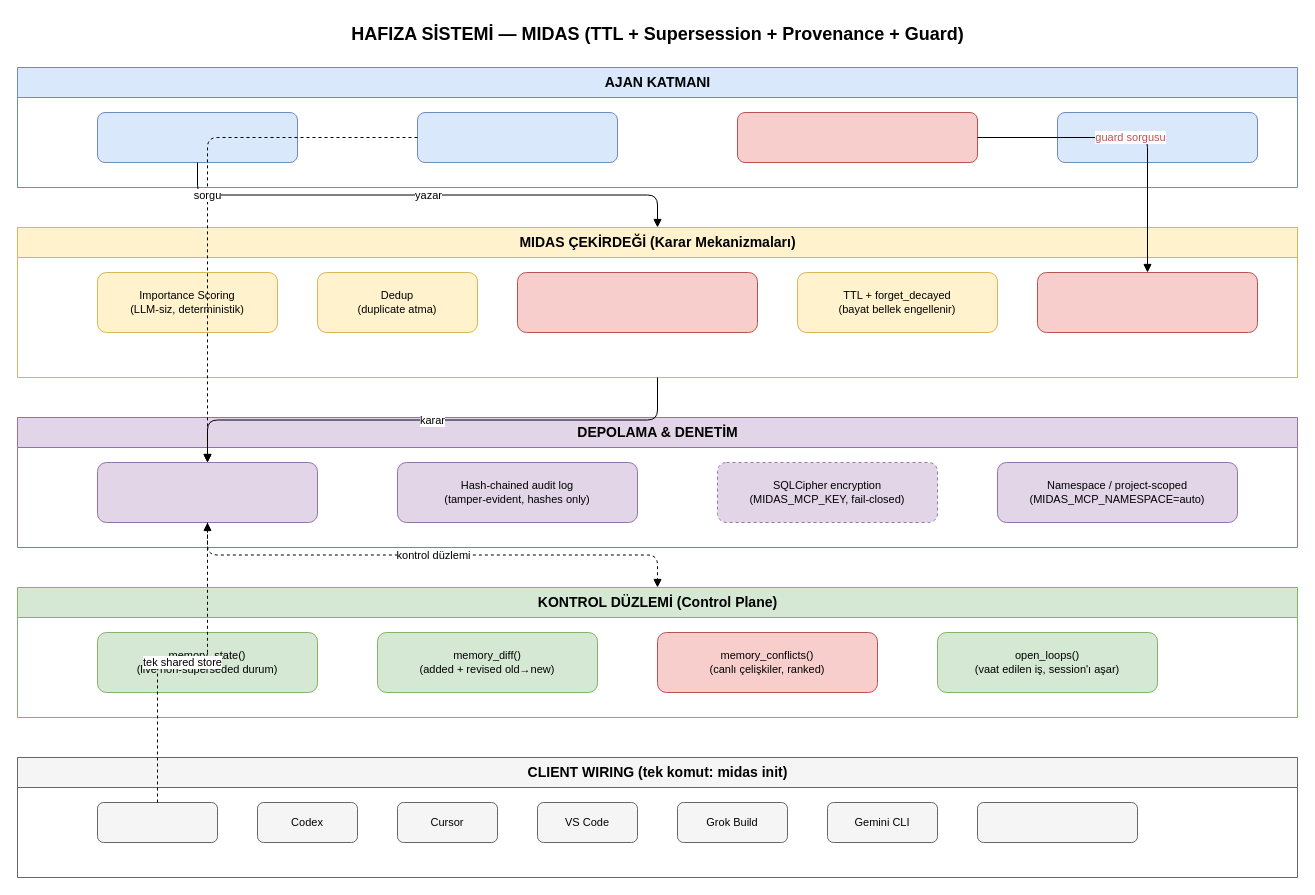
Some shapes in this 1315 by 895 pixel diagram are drawn without their labels. The centre of each missing label's shape, as x and y in pixels:
+ Zed, Cline, Windsurf…: the point at 1057,822
build_context() / resume() (session onboarding): the point at 1157,137
capture() (policy-gated auto-store): the point at 197,137
check_memory_use() (guard — destructive action öncesi): the point at 857,137
Claude Code: the point at 157,822
Provenance Guard (user_confirmation şartı, laundering engeli): the point at 1147,302
recall() (source-traceable): the point at 517,137
SQLite store (~/.midas/memory.sqlite3) multi-client paylaşım: the point at 207,492
Supersession (NLI contradiction → eski belief'i düzelt): the point at 637,302
